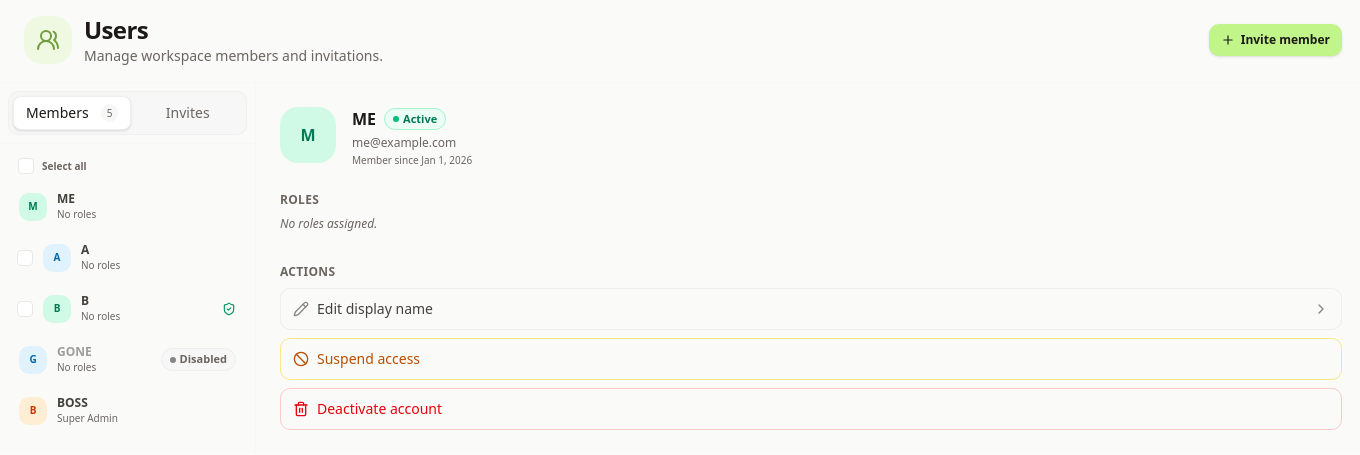
Test: UsersPage — picking several members › shows a super admin to someone else but read-only: no checkbox, no actions
Click the button with aria-label "Open BOSS". click: point(128, 410)
box: [9,387,246,434]
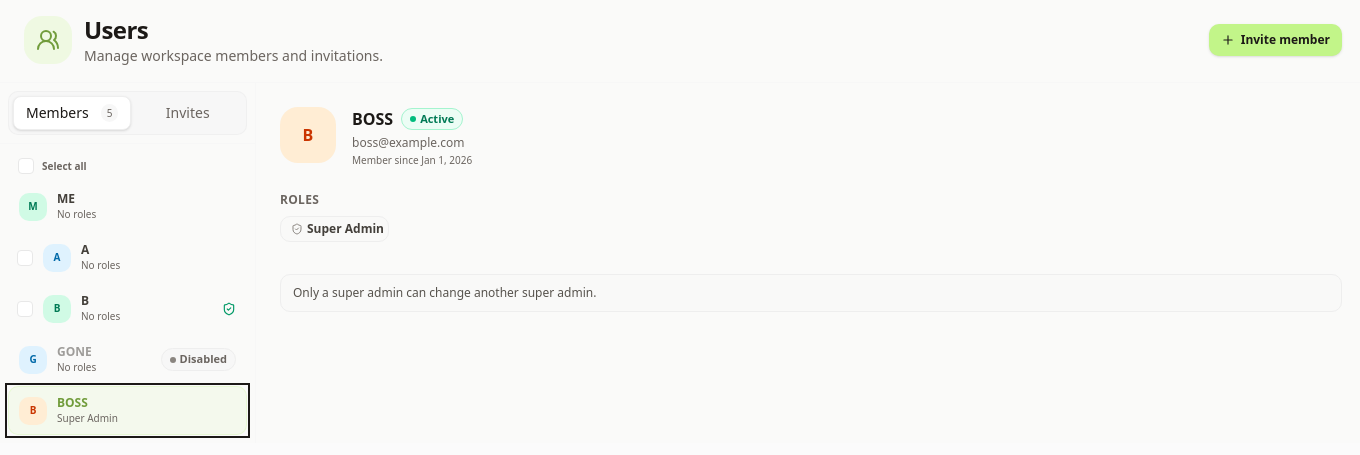
Check: the text "Only a super admin can change another super admin." is shown, box [280,274,1342,312]
Check: the button "Suspend access" is gone
Check: the button "Edit display name" is gone
